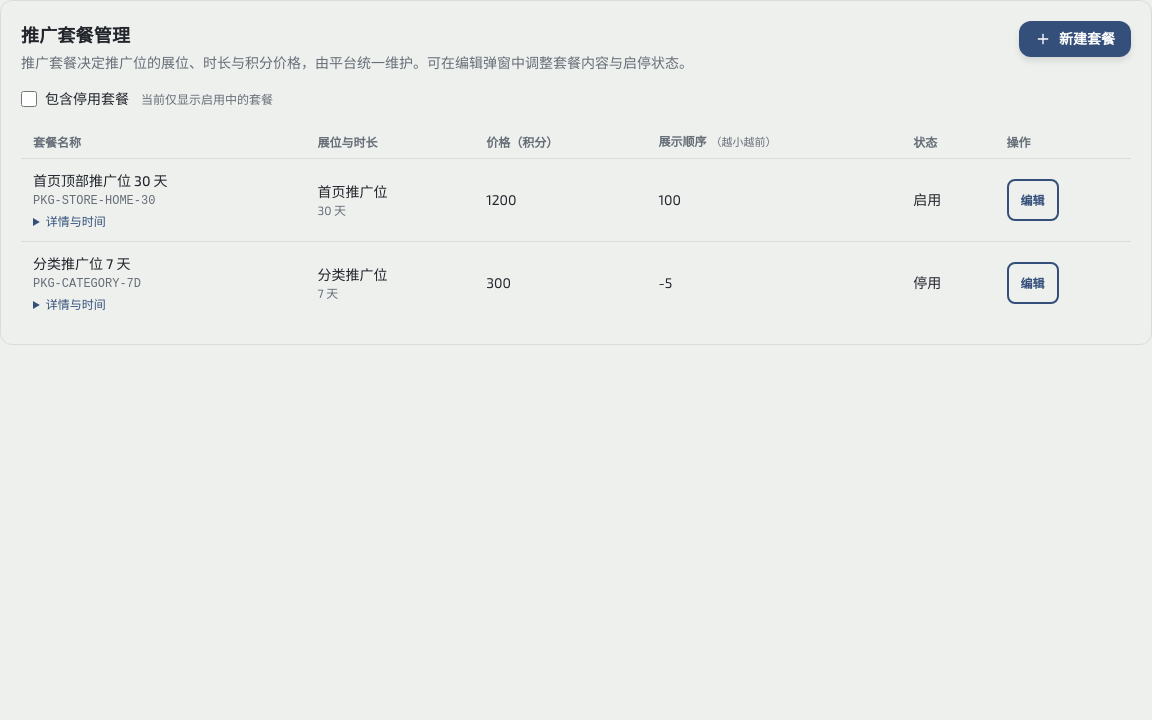
Test case: package dialogs — edit target switch › reopening the create dialog after a target switch still starts pristine
The width and height of the screenshot is (1152, 720).
Expected: the table named "推广套餐列表" is shown, x1=21 y1=125 x2=1131 y2=324
Click the button "新建套餐".
click(1075, 39)  # box x1=1019 y1=21 x2=1131 y2=57
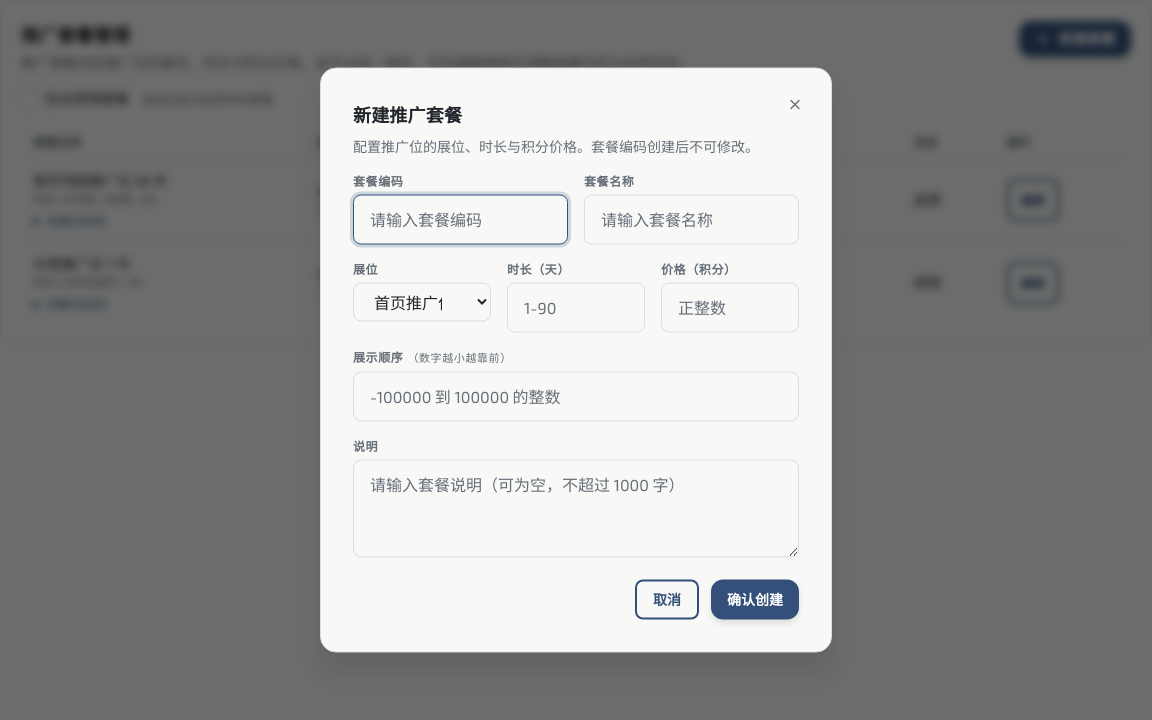
Type "PKG-DIRTY" into the field labelled "套餐编码".
click(460, 220); type("PKG-DIRTY")  # box x1=353 y1=194 x2=568 y2=244
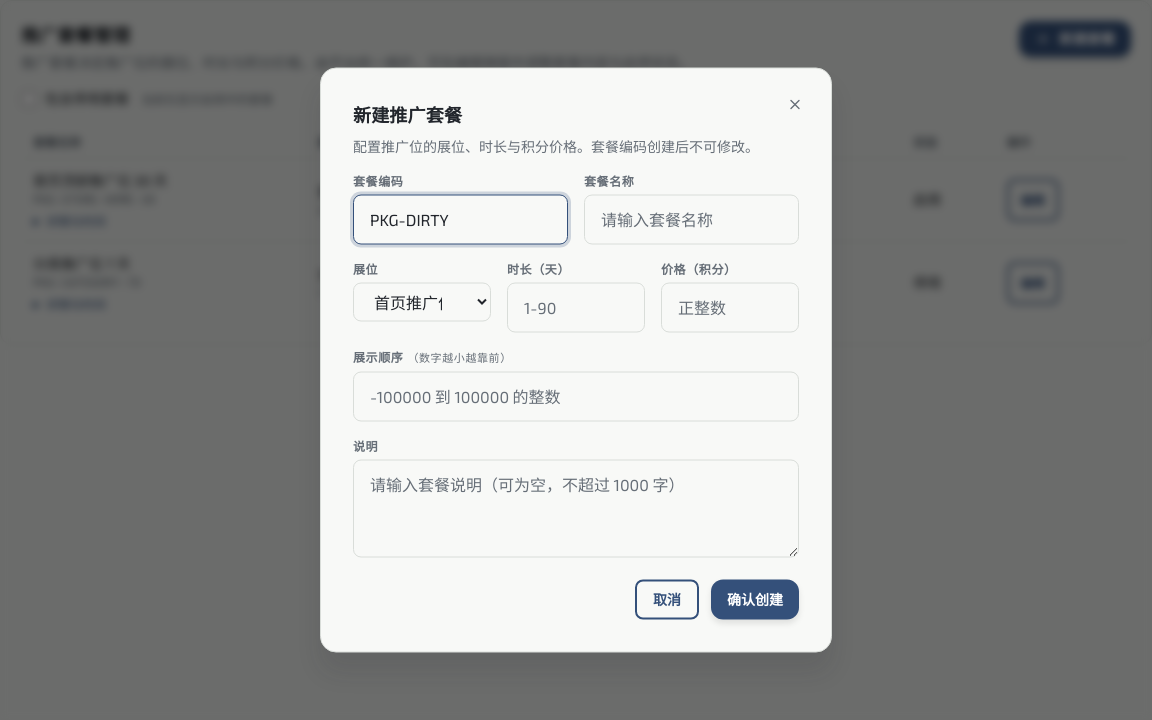
Click the button "取消".
click(667, 600)  # box x1=635 y1=580 x2=699 y2=620
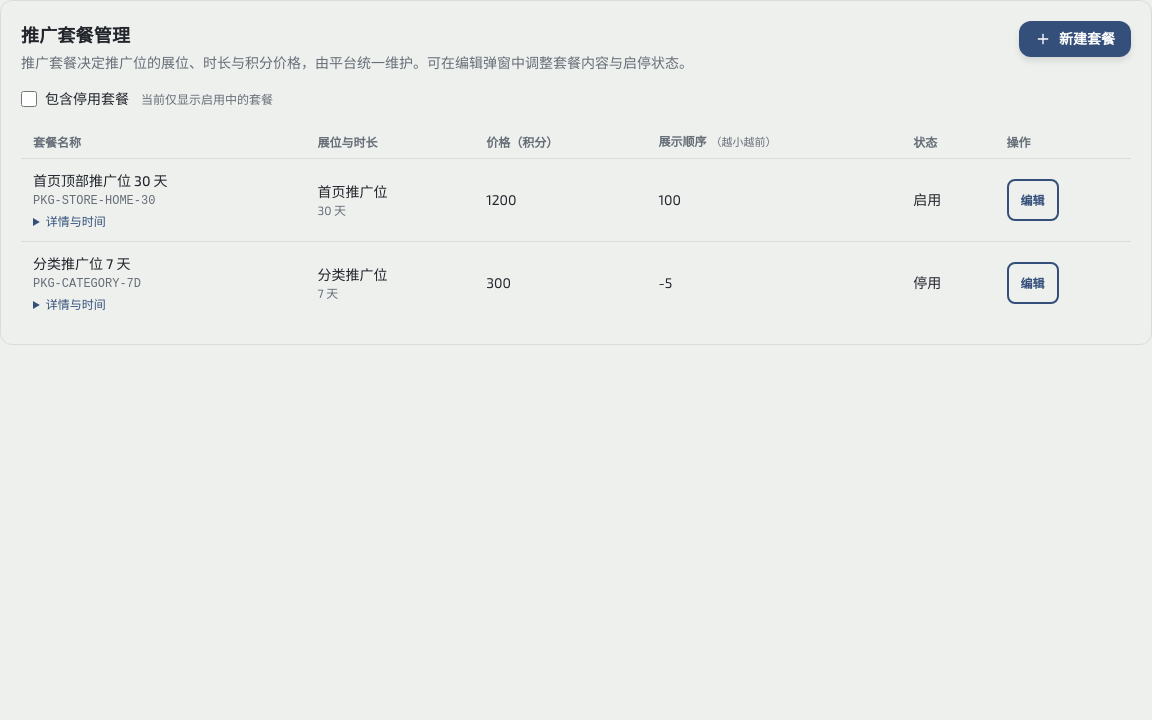
Click the button with aria-label "编辑套餐 PKG-CATEGORY-7D（套餐 ID 22）".
click(1033, 283)  # box x1=1007 y1=262 x2=1059 y2=304
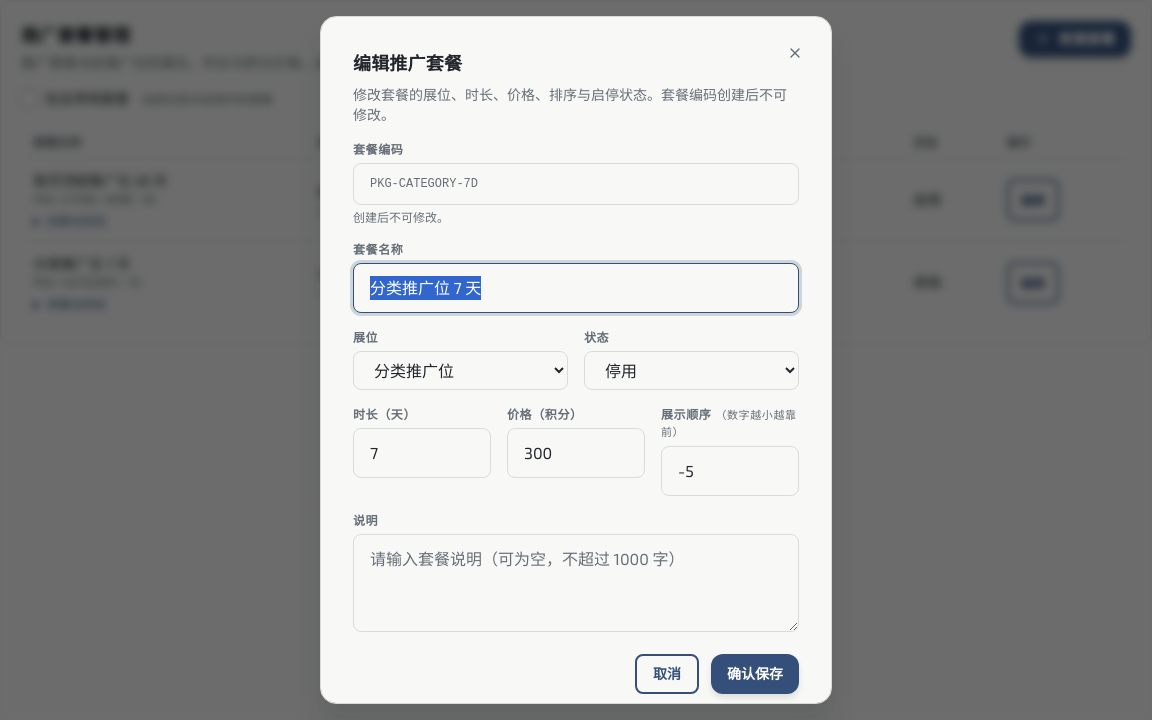
Now the field labelled "套餐名称" holds "分类推广位 7 天", box x1=353 y1=263 x2=799 y2=313
Click the button "取消".
click(667, 674)  # box x1=635 y1=654 x2=699 y2=694
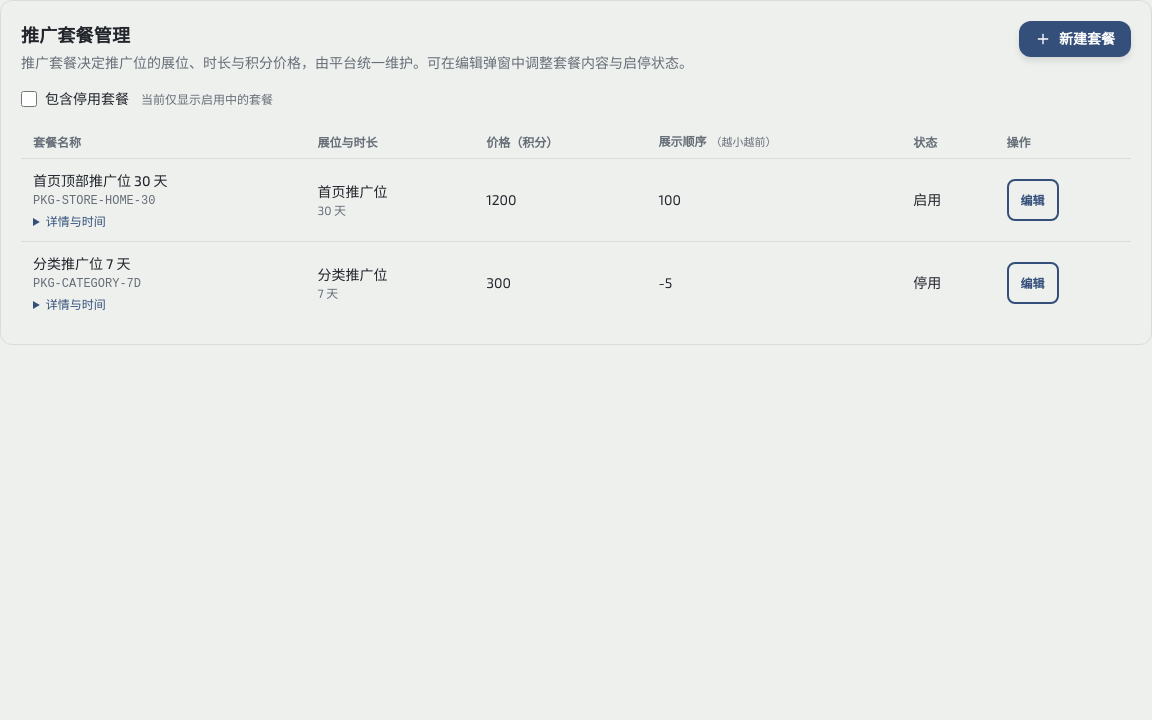
Click the button "新建套餐".
click(1075, 39)  # box x1=1019 y1=21 x2=1131 y2=57
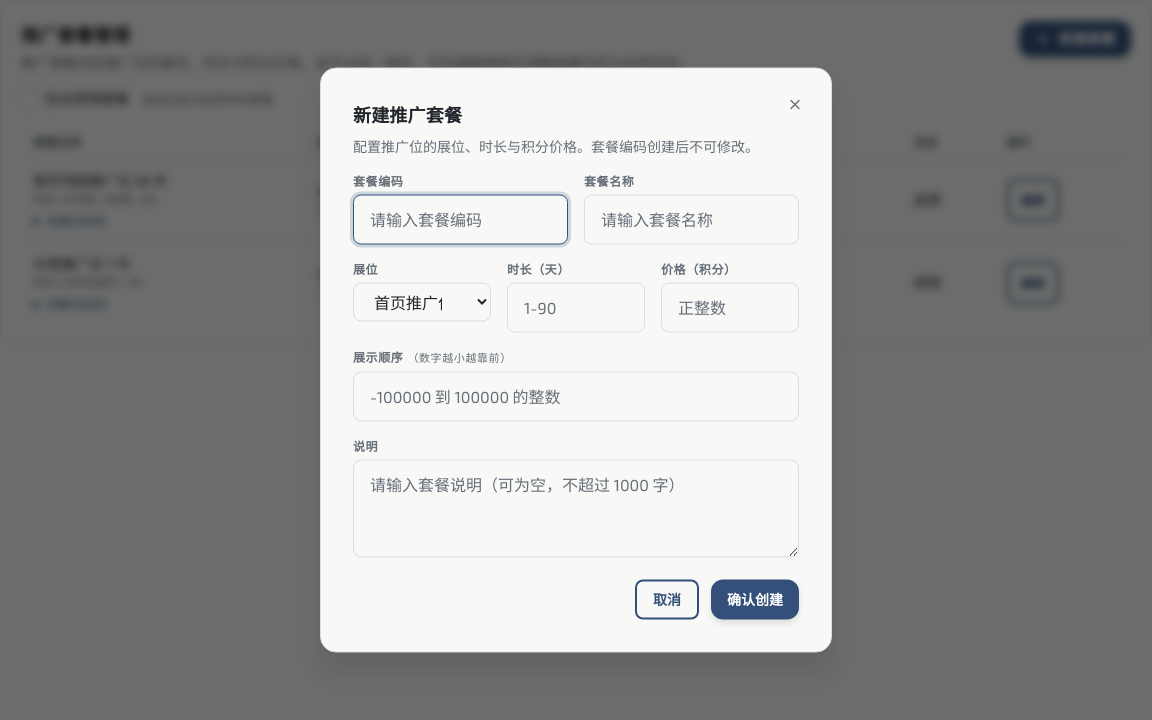
Now the field labelled "套餐编码" is empty, box x1=353 y1=194 x2=568 y2=244
Now the dropdown labelled "展位" shows "首页推广位", box x1=353 y1=282 x2=491 y2=322
